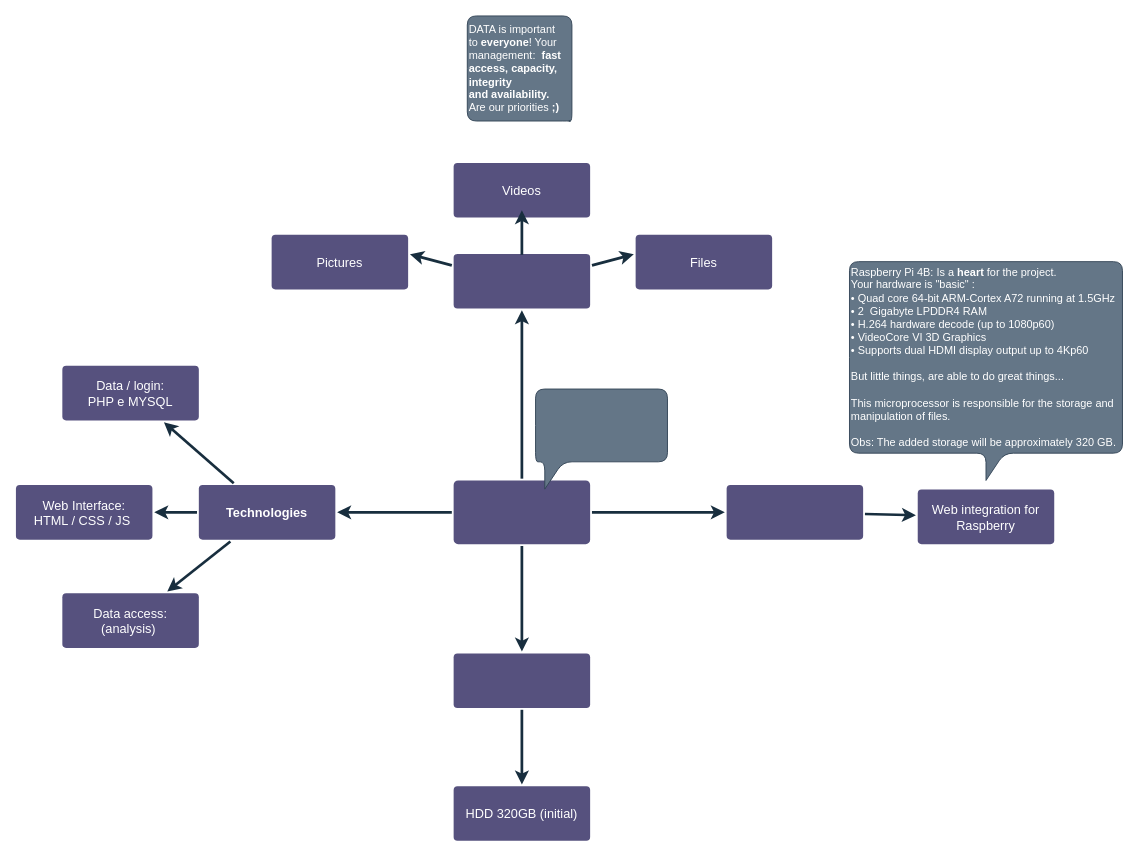
Some shapes in this 1138 by 856 pixel diagram are drawn without their labels. The shapes that lost their labels are listed below. From the top down, each one's box as (x1, y1, x2, y2) in pixels, then its label:
(453, 253, 590, 308): Data storage
(535, 388, 667, 489): S -> server 48h -> hours The server is available for twice as long as it takes
(453, 480, 590, 544): S48H
(726, 485, 863, 539): Access
(453, 653, 590, 708): Storage
